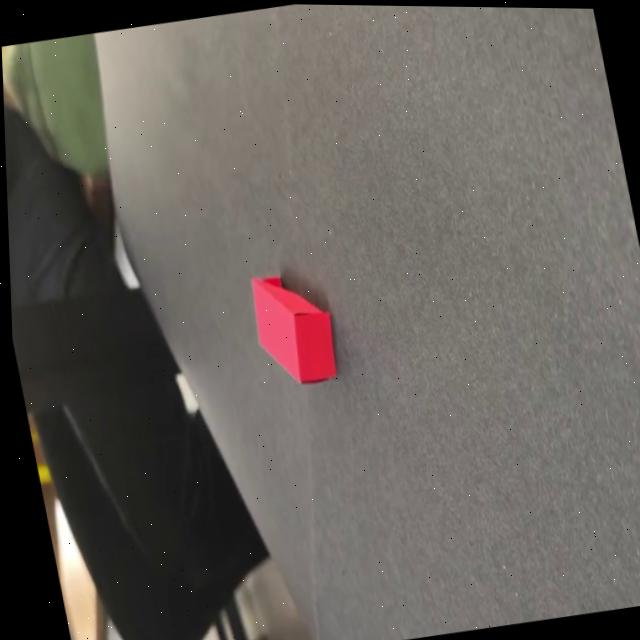red block: (244, 267, 342, 393)
